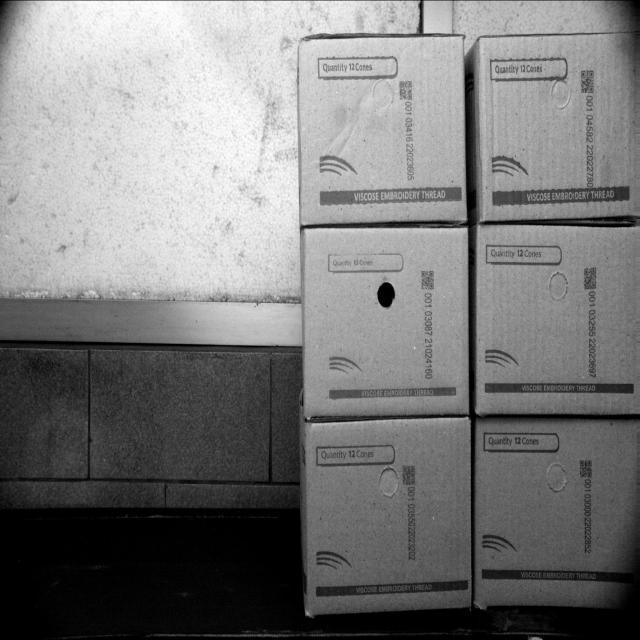box: (298, 30, 468, 222), (304, 418, 471, 610), (474, 420, 640, 610), (304, 226, 471, 412), (474, 225, 640, 412), (481, 39, 640, 218)
